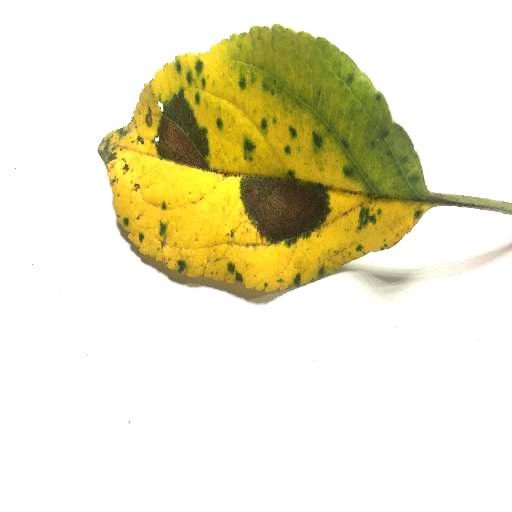Brown_Spot: (239, 184, 323, 235), (162, 116, 204, 162)
